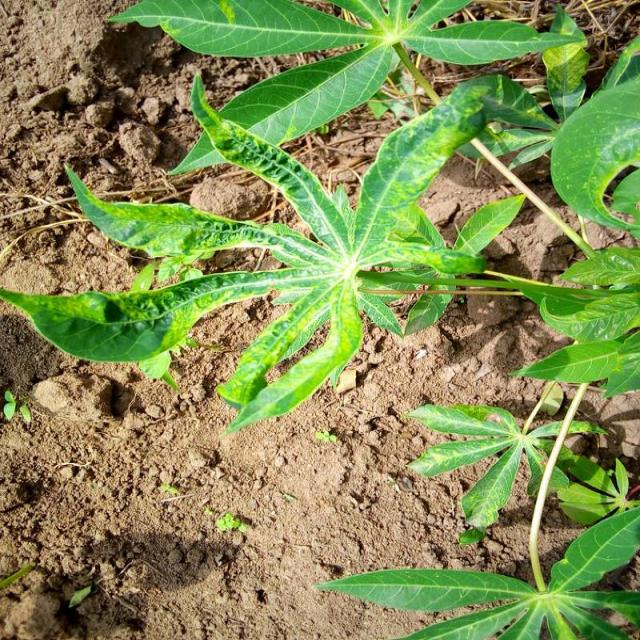cassava leaf: (2, 68, 533, 435), (105, 0, 587, 177)
